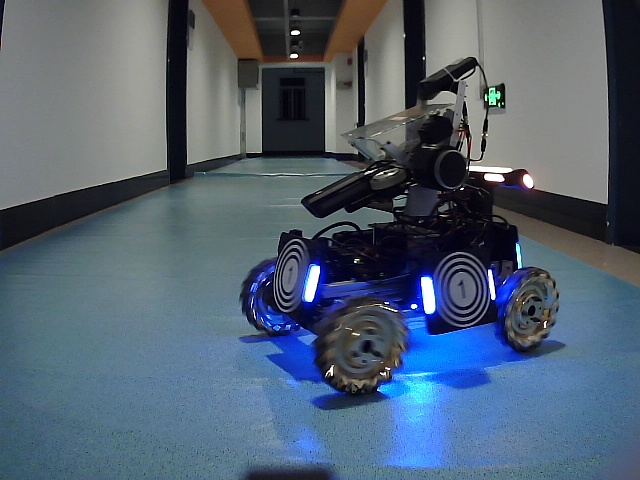lamp: (418, 275, 440, 315), (302, 262, 321, 302), (484, 268, 501, 304), (513, 240, 527, 272)
pair: (421, 276, 494, 300)
